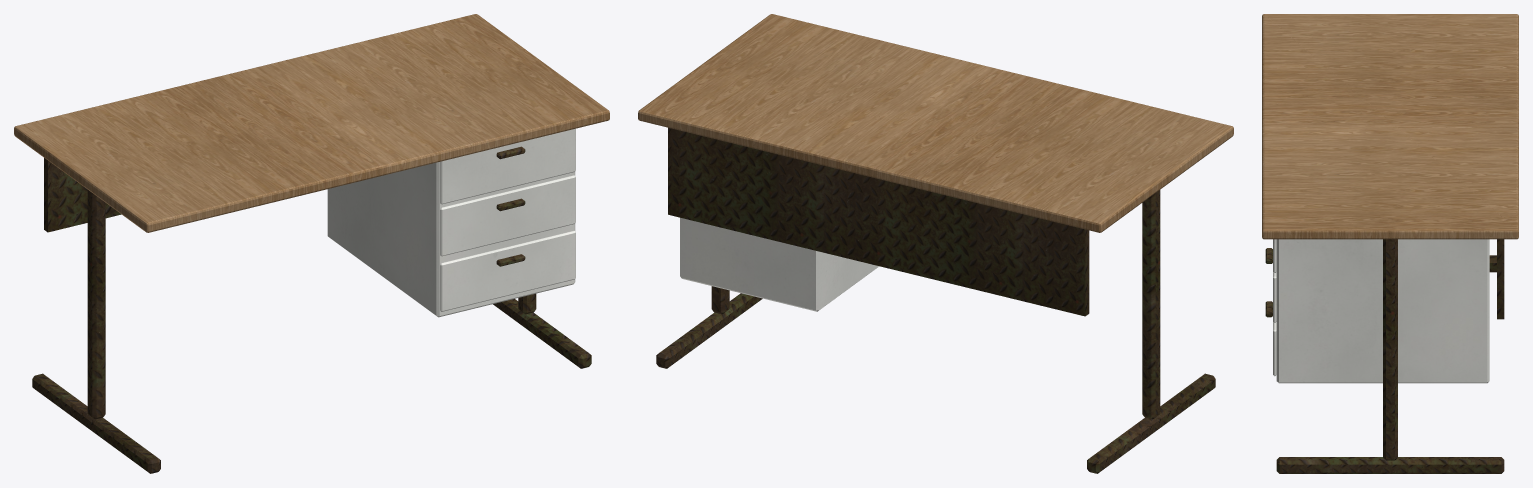
Rendered from office_desk.fbx.
3 views of the same model, side by side, from view 1: azimuth 30°, elevation 25°; view 2: azimuth 150°, elevation 25°; view 3: azimuth 270°, elevation 25° (orthographic). The views are drawn at different scales.
Visible parts, largest first — view 1: office_desk; view 2: office_desk; view 3: office_desk.
Part boxes in pixels (bbox=[...]): office_desk: bbox=[14, 14, 609, 473]; office_desk: bbox=[638, 14, 1233, 473]; office_desk: bbox=[1262, 14, 1518, 473].
Size of what is drawn, in the model's own units: 140 by 75 by 70.
Materials: 3 (3 with a texture image).
